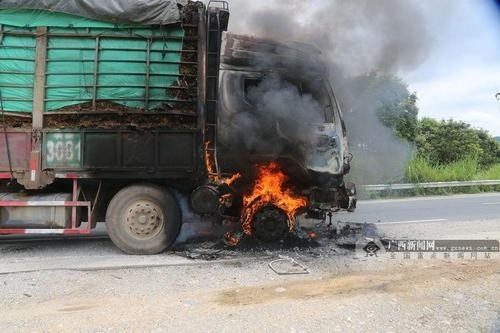fire: (242, 160, 307, 220), (202, 138, 217, 178)
